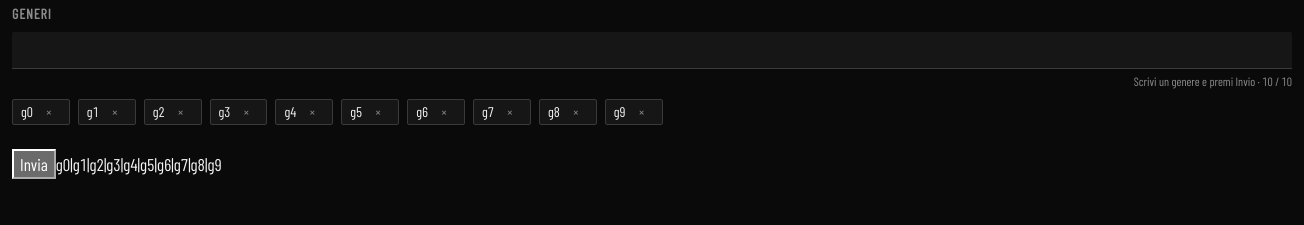
Test: GenreInput › con 10 generi un altro è rifiutato e il contatore dice 10 / 10
The width and height of the screenshot is (1304, 225).
Type "extra" into the field labelled "Generi" at (652, 51), box 12,32 -> 1292,69
Then press Enter
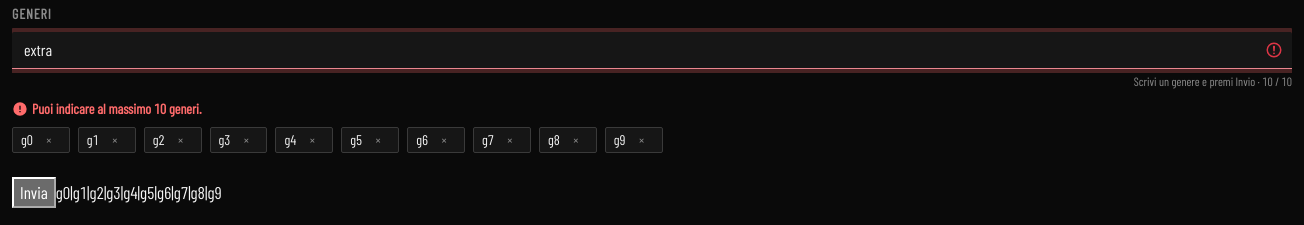
Check: the text "10 / 10" is shown, box 1262,74 -> 1292,88
Check: the message reads "Puoi indicare al massimo 10 generi.", box 32,100 -> 202,117
